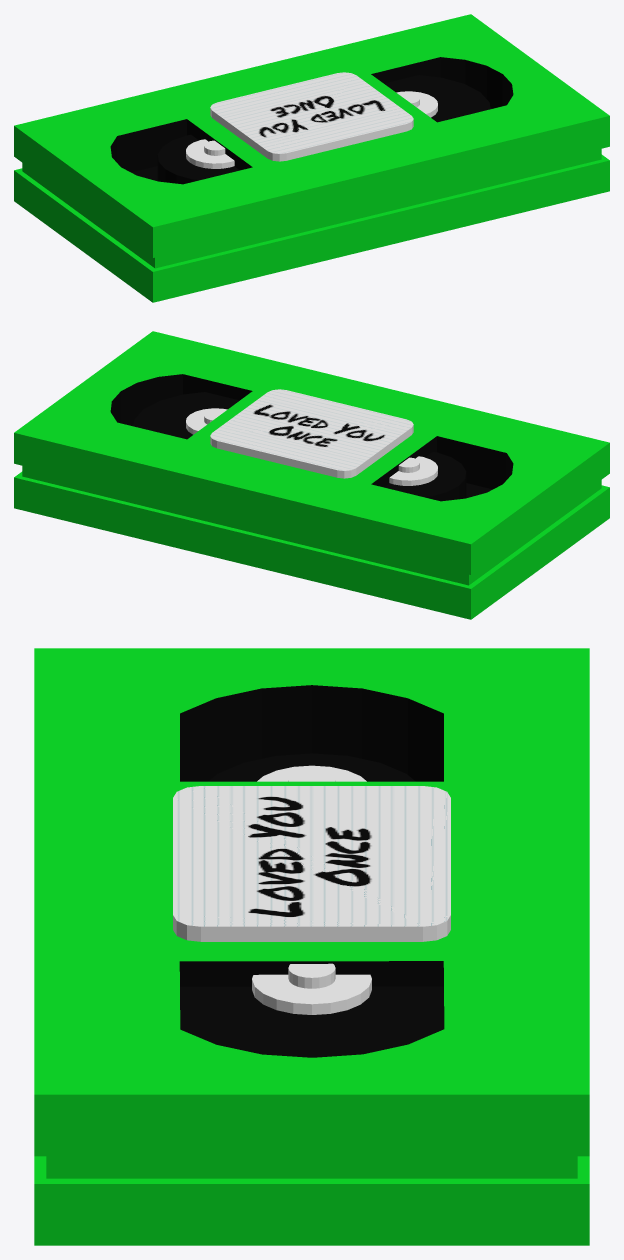
Rendered from Green.fbx.
3 views of the same model, one above another, from view 1: azimuth 30°, elevation 25°; view 2: azimuth 150°, elevation 25°; view 3: azimuth 270°, elevation 25° (orthographic). The views are drawn at different scales.
Parts seen in each view (by area): view 1: Casete_Verde, Casete_Verde_Nombre; view 2: Casete_Verde, Casete_Verde_Nombre; view 3: Casete_Verde, Casete_Verde_Nombre.
Part boxes in pixels (<box>): Casete_Verde: <box>14,14,609,302</box>; Casete_Verde_Nombre: <box>210,72,413,161</box>; Casete_Verde: <box>14,331,609,619</box>; Casete_Verde_Nombre: <box>210,389,413,478</box>; Casete_Verde: <box>34,648,589,1245</box>; Casete_Verde_Nombre: <box>173,786,450,941</box>.
Size of the model in its own units: 19 by 3.3 by 10.
Materials: 5 (1 with a texture image).
